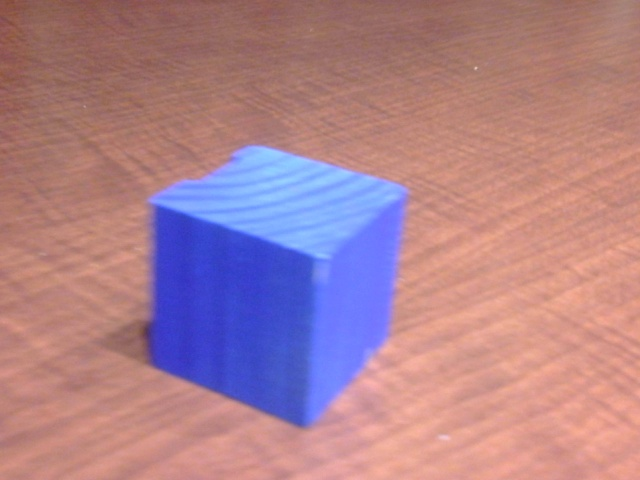BlueBlock: (151, 145, 406, 427)
